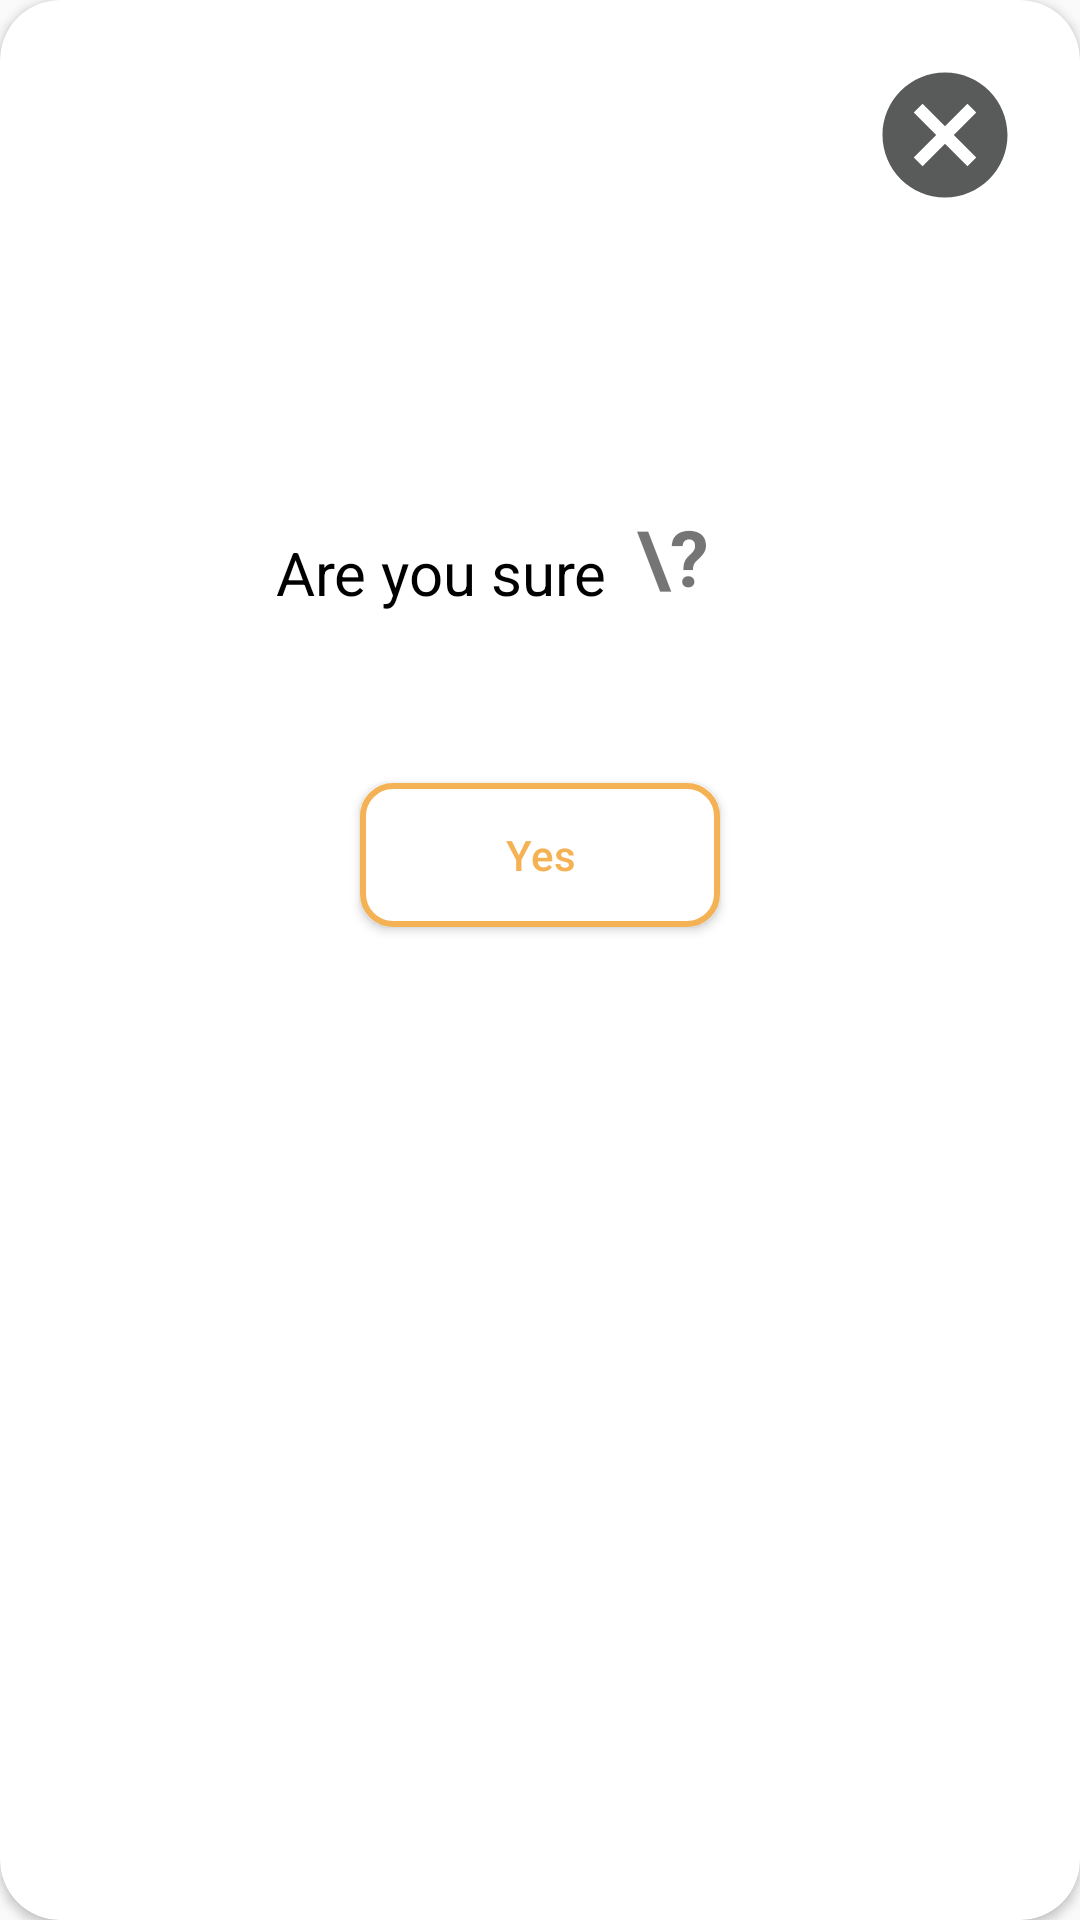

Screen size 1080 × 1920. Icon name, then its center in pixels as (x=x, y=y):
cancel: (x=945, y=135)
